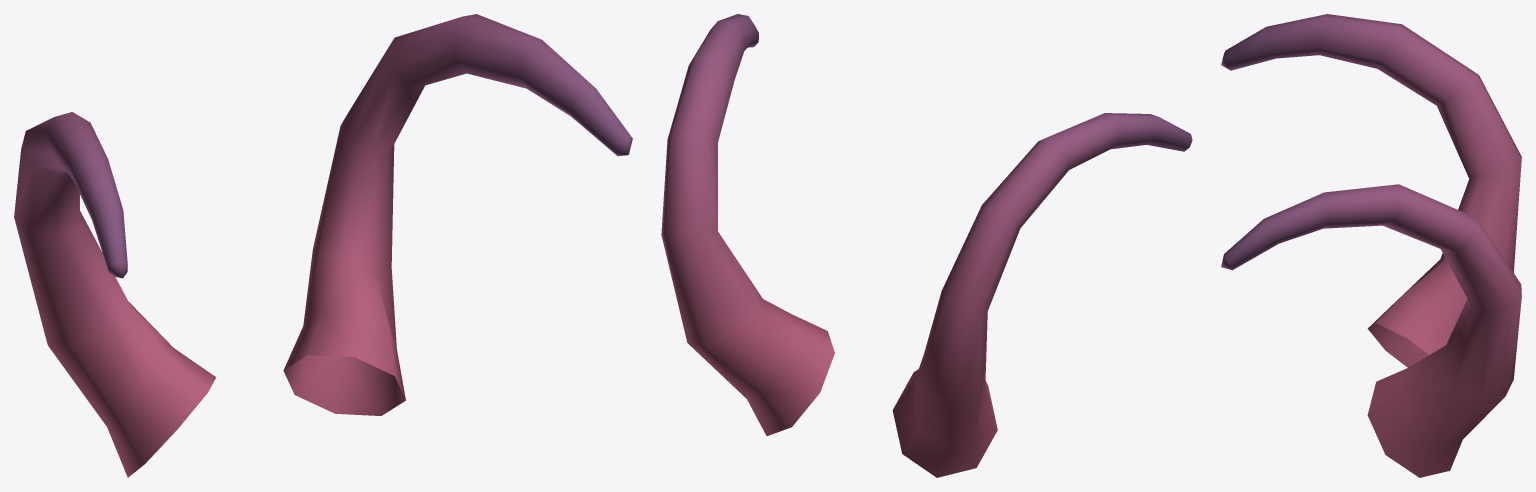
The model's file is SM_Horns_4.fbx.
3 views of the same model, side by side, from view 1: azimuth 30°, elevation 25°; view 2: azimuth 150°, elevation 25°; view 3: azimuth 270°, elevation 25° (orthographic). The views are drawn at different scales.
Visible parts, largest first — view 1: SM_Horns_4; view 2: SM_Horns_4; view 3: SM_Horns_4.
Boxes of the visible parts, box(x1,y1,x2,y2) form: SM_Horns_4: box(14, 14, 632, 477); SM_Horns_4: box(661, 14, 1192, 477); SM_Horns_4: box(1221, 14, 1521, 477).
Bounding box in the file's own units: 1.8 × 1.09 × 1.3.
